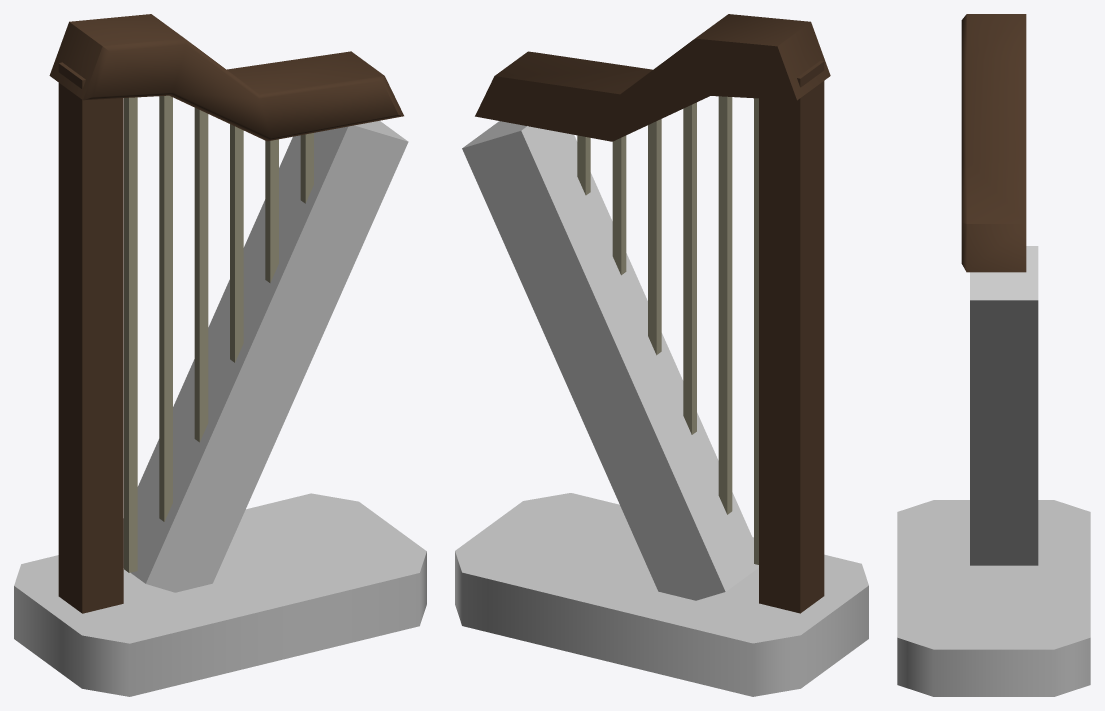
The model's file is harp.obj.
3 views of the same model, side by side, from view 1: azimuth 30°, elevation 25°; view 2: azimuth 150°, elevation 25°; view 3: azimuth 270°, elevation 25° (orthographic). The views are drawn at different scales.
Visible parts, largest first — view 1: source_component_000, source_component_002, source_component_001, source_component_003, source_component_004, source_component_005, source_component_006, source_component_007, source_component_008, source_component_009; view 2: source_component_002, source_component_000, source_component_001, source_component_003, source_component_005, source_component_006, source_component_007, source_component_004, source_component_008, source_component_009; view 3: source_component_000, source_component_002, source_component_003.
Part boxes in pixels (bbox=[...]): source_component_000: bbox=[14, 493, 426, 696]; source_component_002: bbox=[123, 120, 408, 592]; source_component_001: bbox=[58, 62, 123, 613]; source_component_003: bbox=[49, 14, 403, 141]; source_component_004: bbox=[124, 97, 137, 572]; source_component_005: bbox=[159, 95, 172, 521]; source_component_006: bbox=[194, 108, 208, 442]; source_component_007: bbox=[230, 124, 243, 362]; source_component_008: bbox=[265, 139, 278, 282]; source_component_009: bbox=[300, 133, 313, 203]; source_component_002: bbox=[462, 121, 758, 600]; source_component_000: bbox=[455, 493, 868, 696]; source_component_001: bbox=[759, 60, 824, 613]; source_component_003: bbox=[475, 14, 830, 141]; source_component_005: bbox=[718, 96, 732, 514]; source_component_006: bbox=[683, 102, 696, 434]; source_component_007: bbox=[648, 119, 661, 355]; source_component_004: bbox=[754, 98, 758, 564]; source_component_008: bbox=[612, 135, 626, 275]; source_component_009: bbox=[577, 135, 590, 195]; source_component_000: bbox=[897, 500, 1090, 696]; source_component_002: bbox=[970, 246, 1038, 565]; source_component_003: bbox=[961, 14, 1026, 272].
Bounding box in the file's own units: 0.8854 × 1.51 × 0.48.
